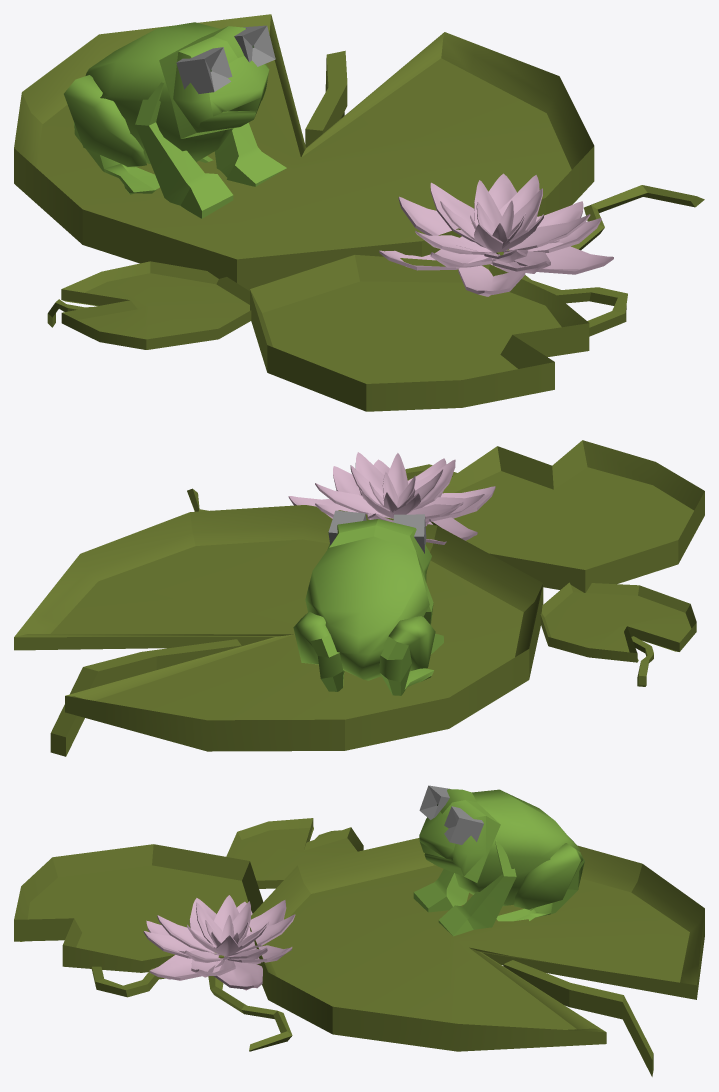
File: art_3dobjects_water_crop_frog_stage3.fbx
3 views of the same model, one above another, from view 1: azimuth 30°, elevation 25°; view 2: azimuth 150°, elevation 25°; view 3: azimuth 270°, elevation 25° (orthographic). The views are drawn at different scales.
Visible parts, largest first — view 1: water_frog_stage3; view 2: water_frog_stage3; view 3: water_frog_stage3.
Part boxes in pixels (<box>): water_frog_stage3: <box>14,14,704,411</box>; water_frog_stage3: <box>14,440,704,756</box>; water_frog_stage3: <box>14,785,704,1076</box>.
Bounding box in the file's own units: 48.68 × 18.18 × 61.83.
